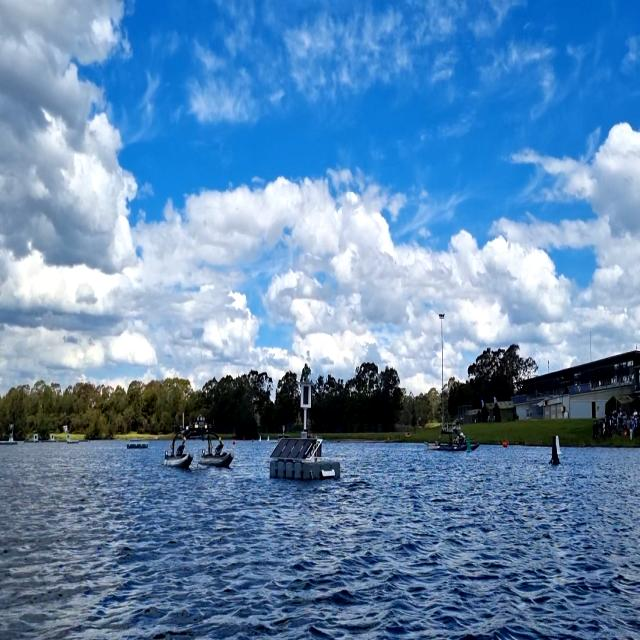led: (303, 384, 309, 406)
